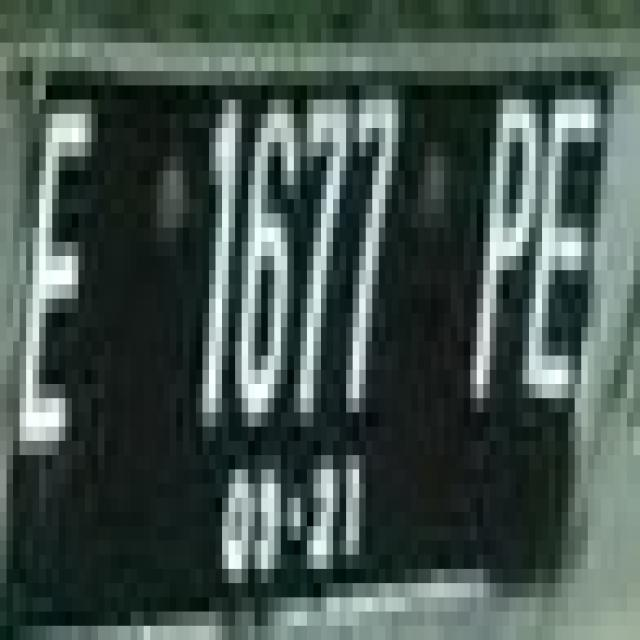plate: (1, 47, 595, 588)
